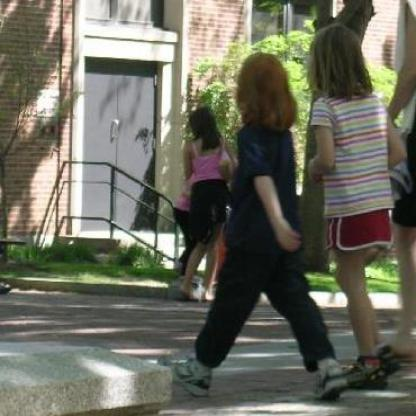person: (181, 54, 342, 402), (299, 33, 404, 385)
